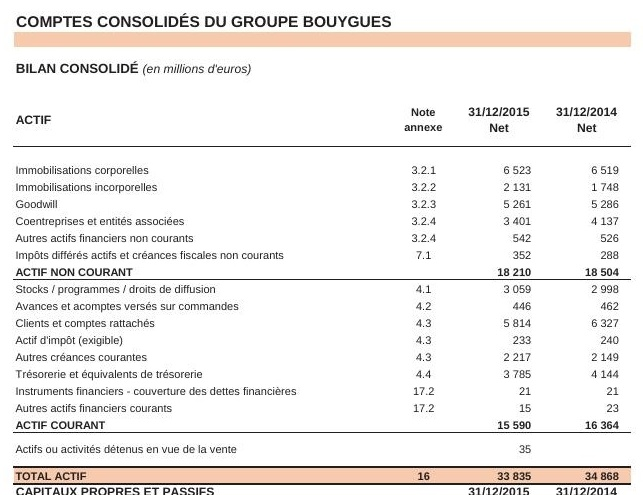table: (0, 0, 643, 495)
